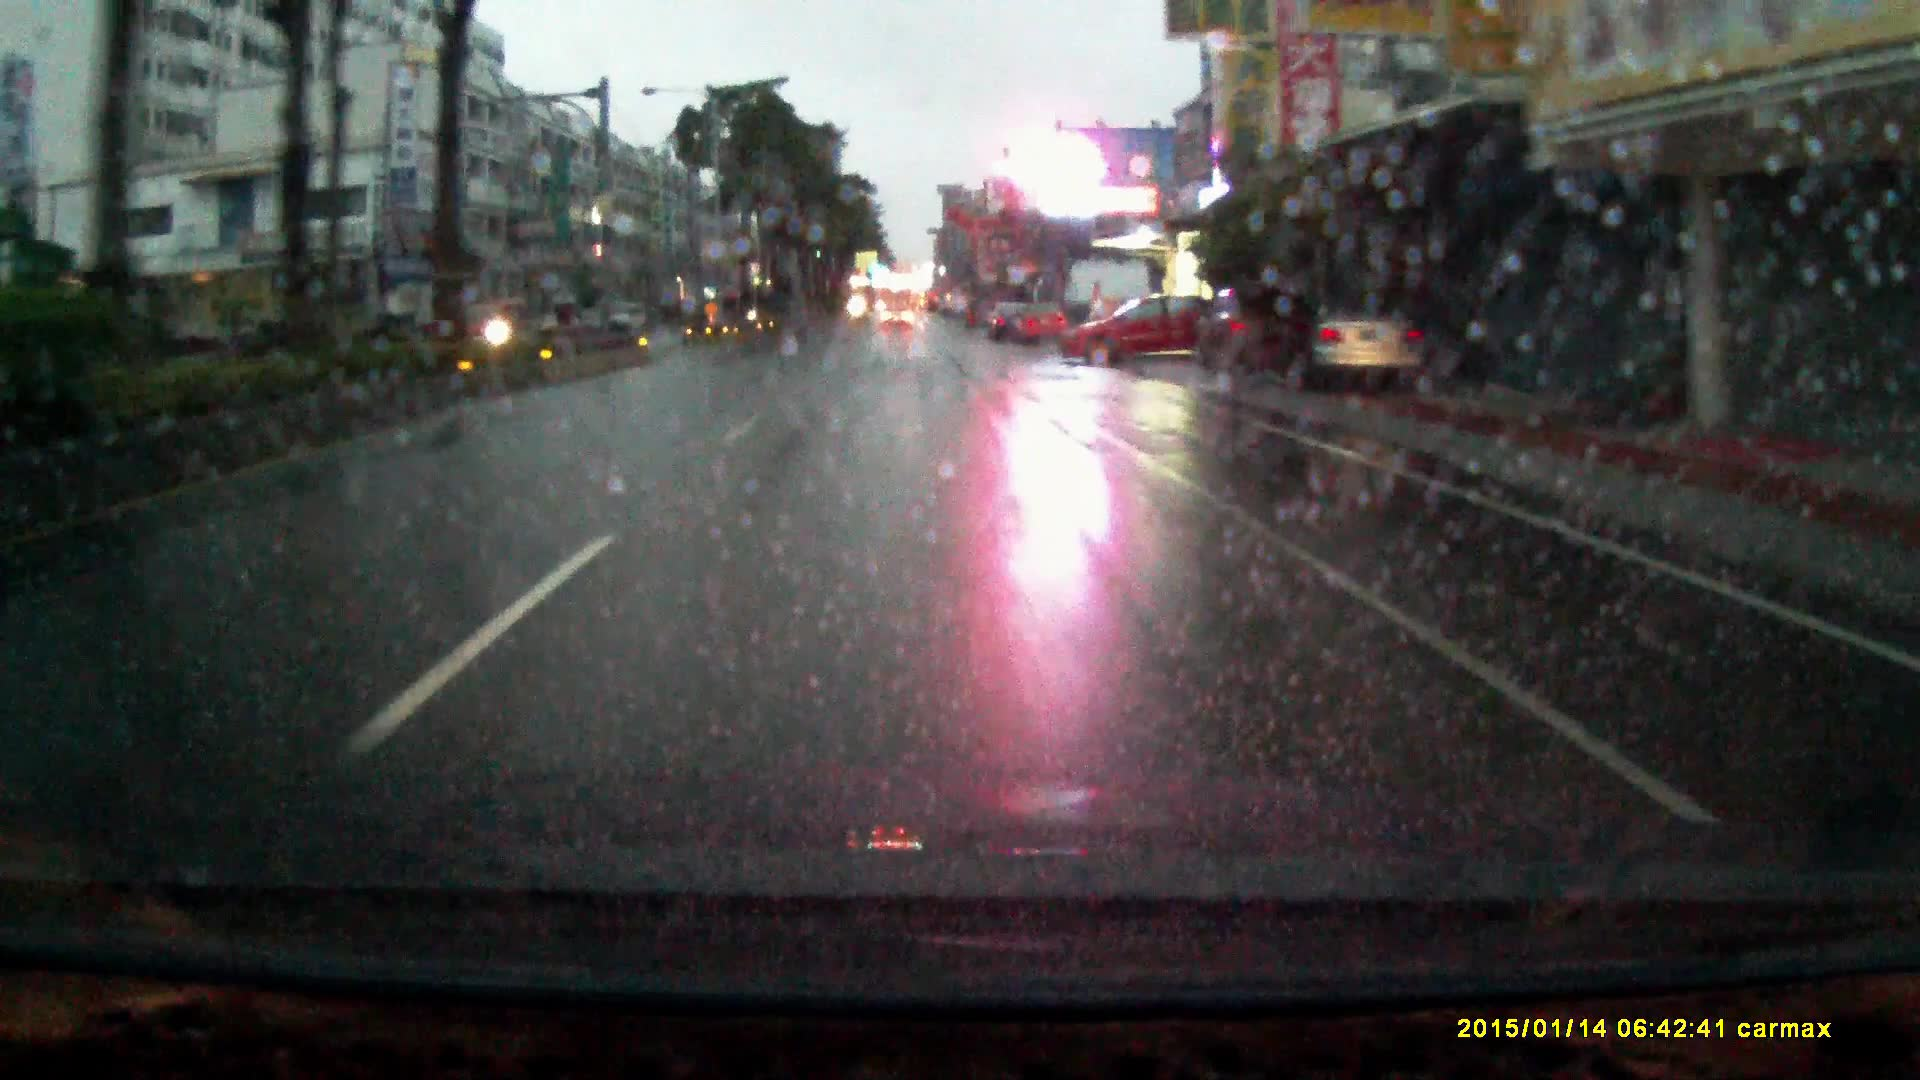vehicle: (1287, 293, 1433, 393), (1192, 278, 1317, 375), (1054, 287, 1215, 361), (448, 295, 535, 345), (1010, 295, 1069, 342), (985, 298, 1033, 342), (882, 301, 915, 327)
